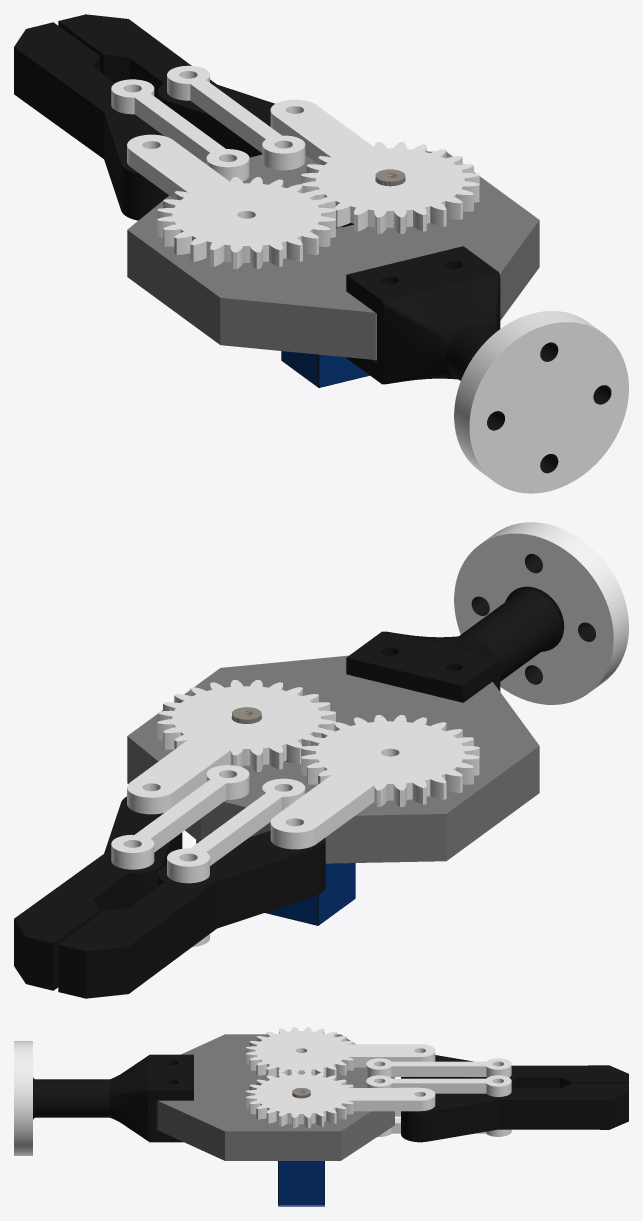
The model's file is end effector.glb.
The picture shows the model from 3 angles, top to bottom: view 1: azimuth 30°, elevation 25°; view 2: azimuth 150°, elevation 25°; view 3: azimuth 270°, elevation 25°; orthographic projection. The views are drawn at different scales.
Visible parts, largest first — view 1: Material 1, Material 13, Material 12, Material 14, Material 15, Material 3, Material 5, Material 4, Material 2, Material 8; view 2: Material 1, Material 3, Material 13, Material 14, Material 15, Material 12, Material 5, Material 4, Material 2, Material 8; view 3: Material 1, Material 5, Material 12, Material 15, Material 14, Material 3, Material 2, Material 13, Material 8, Material 4, Material 7.
Boxes of the visible parts, bbox=[...] form: Material 1: bbox=[127, 151, 539, 359]; Material 13: bbox=[454, 311, 628, 493]; Material 12: bbox=[346, 246, 611, 473]; Material 14: bbox=[127, 134, 335, 269]; Material 15: bbox=[270, 99, 479, 233]; Material 3: bbox=[14, 22, 168, 220]; Material 5: bbox=[58, 14, 274, 157]; Material 4: bbox=[167, 65, 305, 170]; Material 2: bbox=[111, 79, 249, 181]; Material 8: bbox=[281, 351, 369, 387]; Material 1: bbox=[127, 655, 539, 863]; Material 3: bbox=[58, 830, 325, 998]; Material 13: bbox=[454, 522, 628, 704]; Material 14: bbox=[270, 715, 479, 849]; Material 15: bbox=[127, 680, 335, 814]; Material 12: bbox=[346, 554, 595, 702]; Material 5: bbox=[14, 796, 182, 990]; Material 4: bbox=[111, 765, 249, 869]; Material 2: bbox=[167, 778, 305, 883]; Material 8: bbox=[196, 764, 355, 925]; Material 1: bbox=[157, 1034, 394, 1160]; Material 5: bbox=[401, 1083, 628, 1142]; Material 12: bbox=[33, 1054, 193, 1142]; Material 15: bbox=[246, 1071, 435, 1128]; Material 14: bbox=[246, 1027, 435, 1077]; Material 3: bbox=[401, 1055, 628, 1088]; Material 2: bbox=[366, 1058, 511, 1077]; Material 13: bbox=[14, 1041, 32, 1155]; Material 8: bbox=[278, 1161, 324, 1205]; Material 4: bbox=[366, 1075, 511, 1096]; Material 7: bbox=[378, 1118, 511, 1136].
Size of the model in its own units: 60 by 38.55 by 161.
